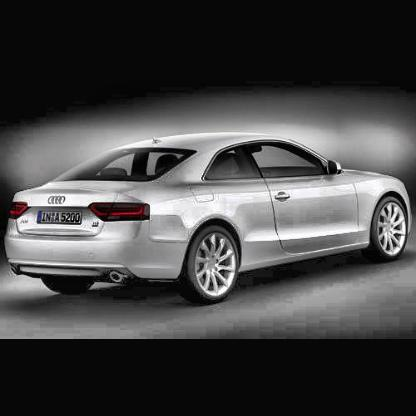Audi S5 Coupe 2012: (4, 116, 416, 311)
